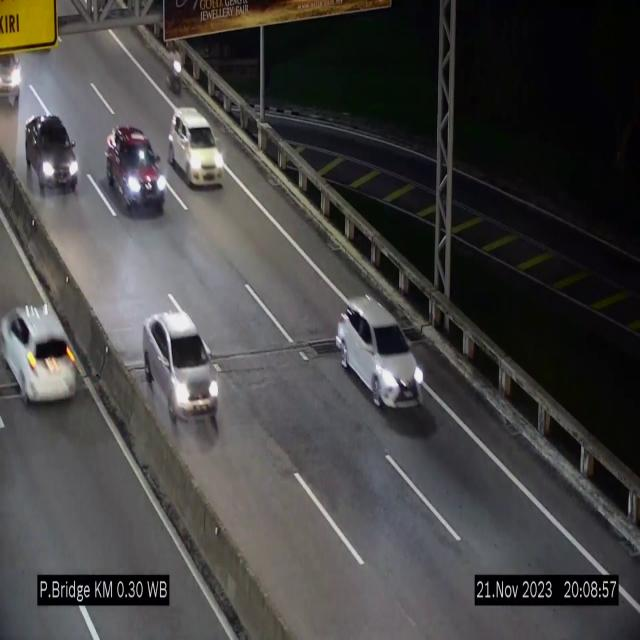Car: (336, 296, 426, 407), (0, 285, 74, 418), (143, 311, 219, 431), (106, 124, 166, 215), (23, 109, 78, 200), (168, 106, 224, 186), (0, 40, 26, 99)
Motorcycle: (166, 34, 186, 100)
